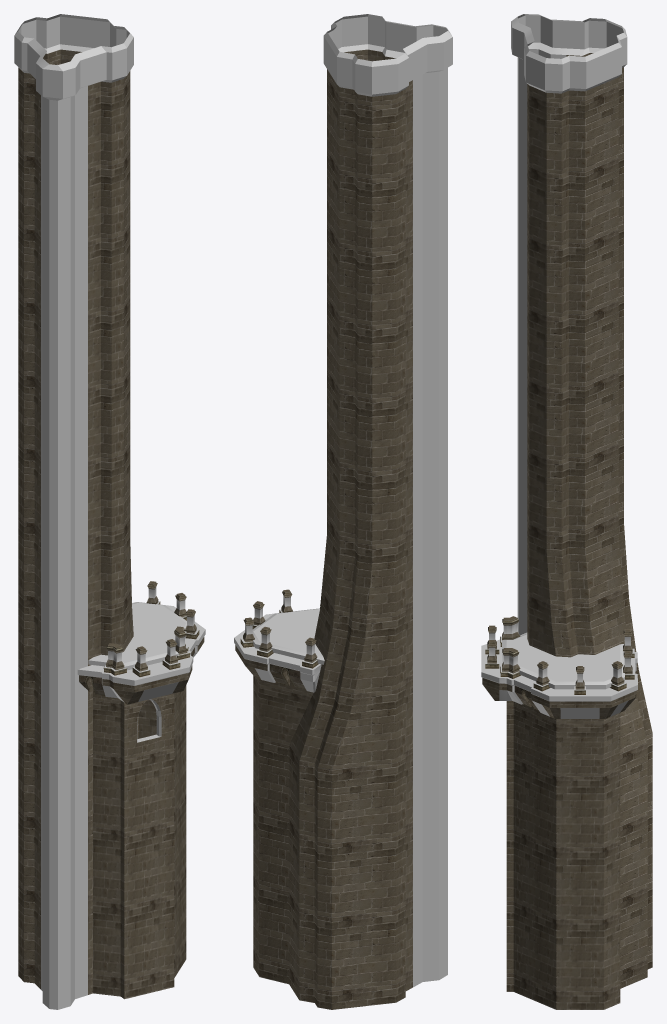
The model's file is SM_TowerThroneRoom.FBX.
3 views of the same model, side by side, from view 1: azimuth 30°, elevation 25°; view 2: azimuth 150°, elevation 25°; view 3: azimuth 270°, elevation 25° (orthographic). The views are drawn at different scales.
Parts seen in each view (by area): view 1: SM_TowerThroneRoom; view 2: SM_TowerThroneRoom; view 3: SM_TowerThroneRoom.
Boxes of the visible parts, x1,y1,x2,y2 form: SM_TowerThroneRoom: (14, 14, 205, 1009); SM_TowerThroneRoom: (234, 14, 452, 1009); SM_TowerThroneRoom: (481, 14, 652, 1009).
Size of what is drawn, in the model's own units: 1828 by 1589 by 9427.
